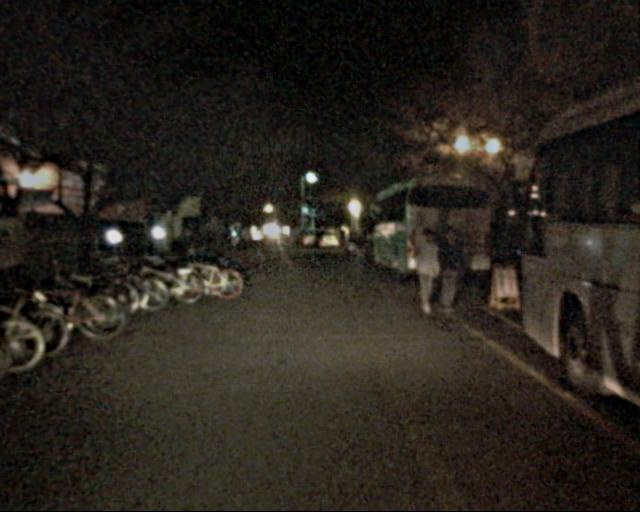person: (428, 227, 463, 313), (406, 232, 440, 314), (347, 226, 371, 284)
